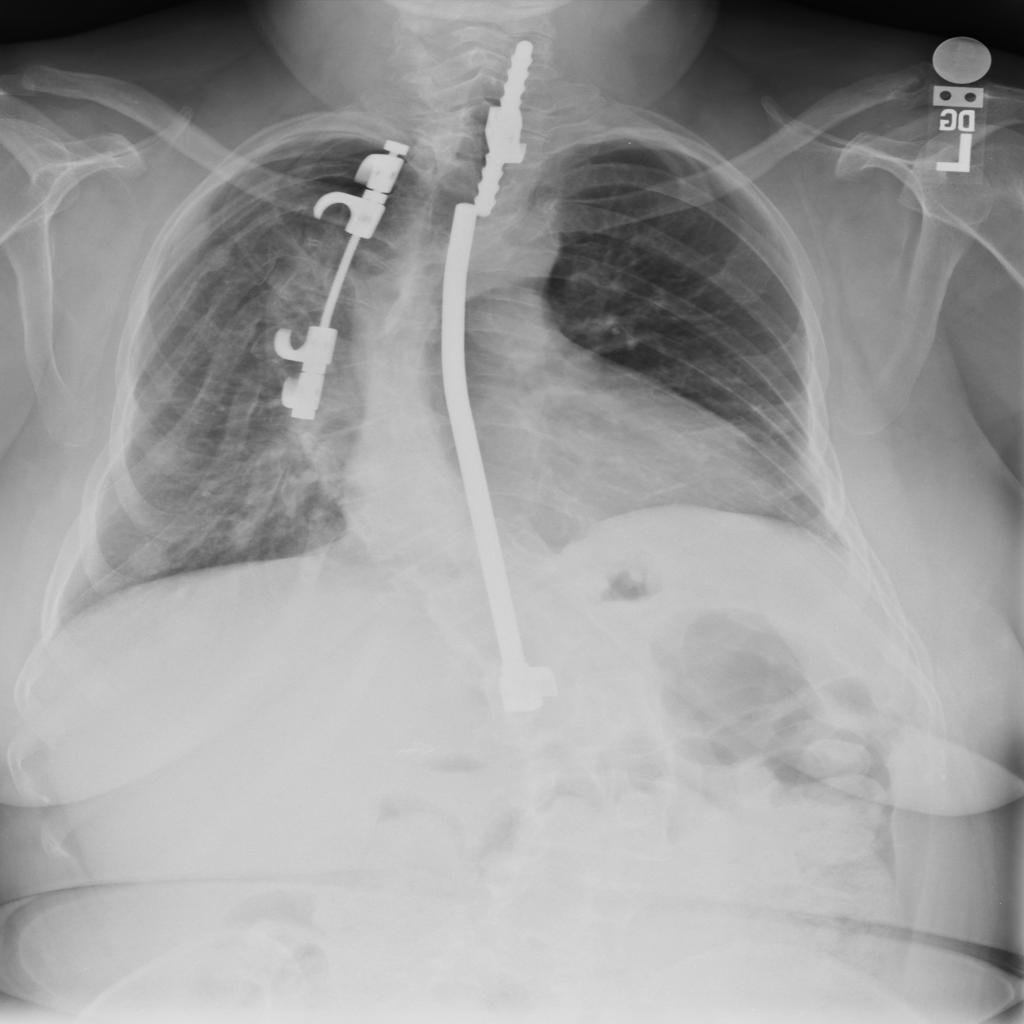nodule: (131, 424, 210, 487), (119, 535, 179, 583), (214, 512, 268, 557)
